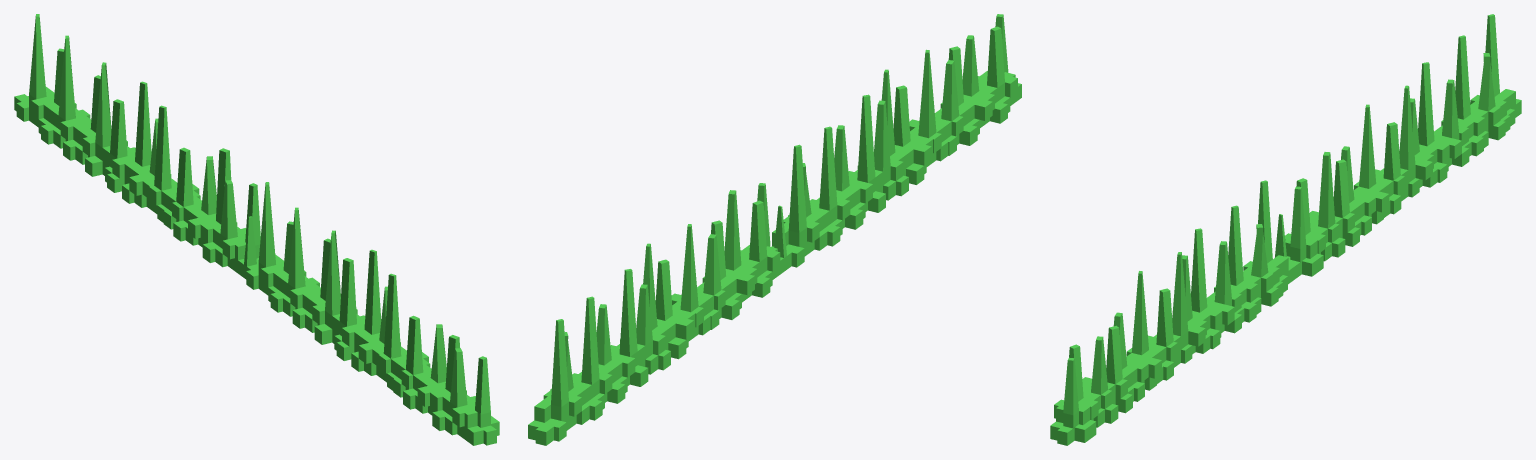
Rendered from Divisores.obj.
3 renders of one model, left to right at view 1: azimuth 30°, elevation 25°; view 2: azimuth 150°, elevation 25°; view 3: azimuth 330°, elevation 25°, orthographic. The views are drawn at different scales.
Parts seen in each view (by area): view 1: Box005; view 2: Box005; view 3: Box005.
Part boxes in pixels (bbox=[...]): Box005: bbox=[14, 14, 499, 445]; Box005: bbox=[528, 14, 1021, 445]; Box005: bbox=[1050, 14, 1521, 445].
Size of the model in its own units: 0.4 by 1 by 7.85.
